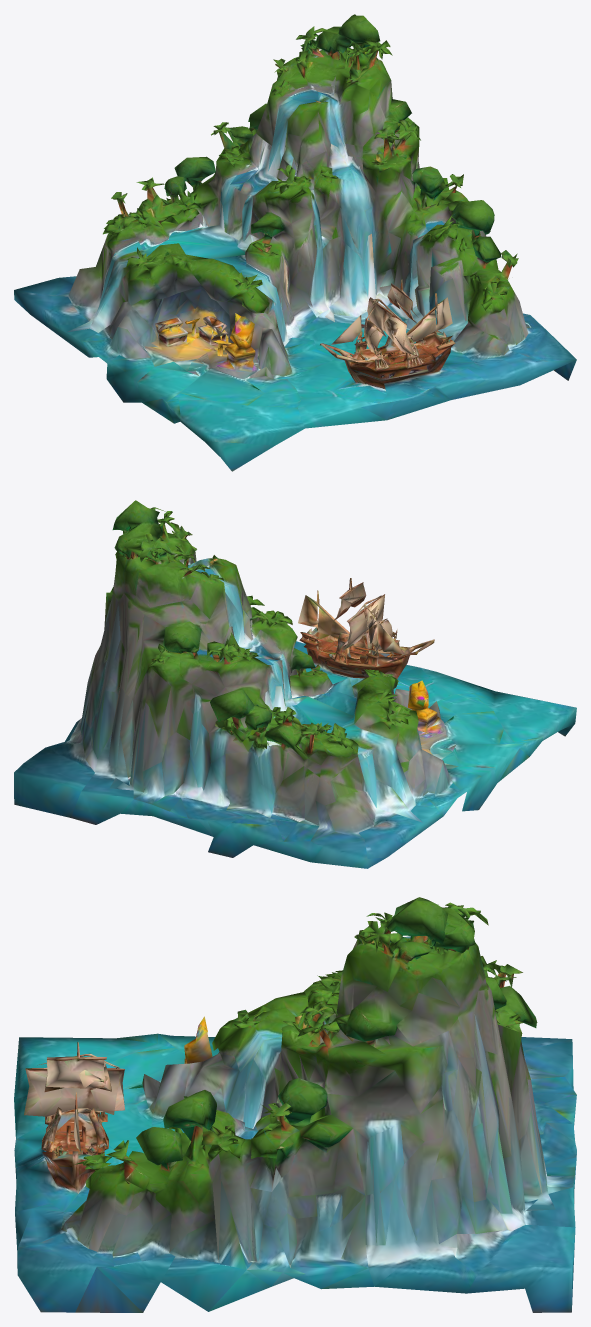
File: m_cocos_animated.glb
The picture shows the model from 3 angles, top to bottom: view 1: azimuth 30°, elevation 25°; view 2: azimuth 150°, elevation 25°; view 3: azimuth 270°, elevation 25°; orthographic projection. The views are drawn at different scales.
Visible parts, largest first — view 1: m_cocos_Living_Scenery; view 2: m_cocos_Living_Scenery; view 3: m_cocos_Living_Scenery.
Part boxes in pixels (x1,y1,x2,y2): m_cocos_Living_Scenery: [14, 14, 576, 471]; m_cocos_Living_Scenery: [14, 500, 576, 868]; m_cocos_Living_Scenery: [14, 897, 576, 1312].
Bounding box in the file's own units: 0.9408 × 0.6882 × 0.9472.
1 material, 1 textured.
